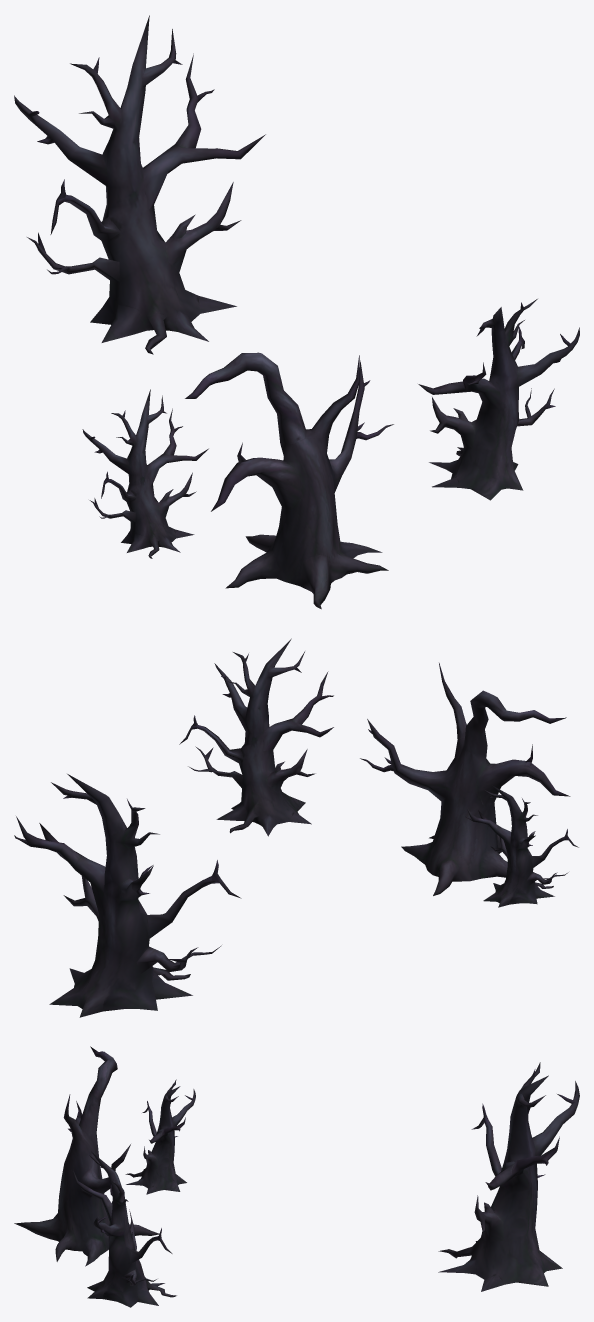
File: Area14_24.fbx
3 renders of one model, top to bottom at view 1: azimuth 30°, elevation 25°; view 2: azimuth 150°, elevation 25°; view 3: azimuth 270°, elevation 25°, orthographic. The views are drawn at different scales.
Visible parts, largest first — view 1: Area14_24; view 2: Area14_24; view 3: Area14_24.
Boxes of the visible parts, left/top/right/bottom form: Area14_24: left=14, top=15, right=579, bottom=609; Area14_24: left=14, top=638, right=578, bottom=1017; Area14_24: left=14, top=1046, right=579, bottom=1307.
Bounding box in the file's own units: 2473 × 1545 × 3592.
